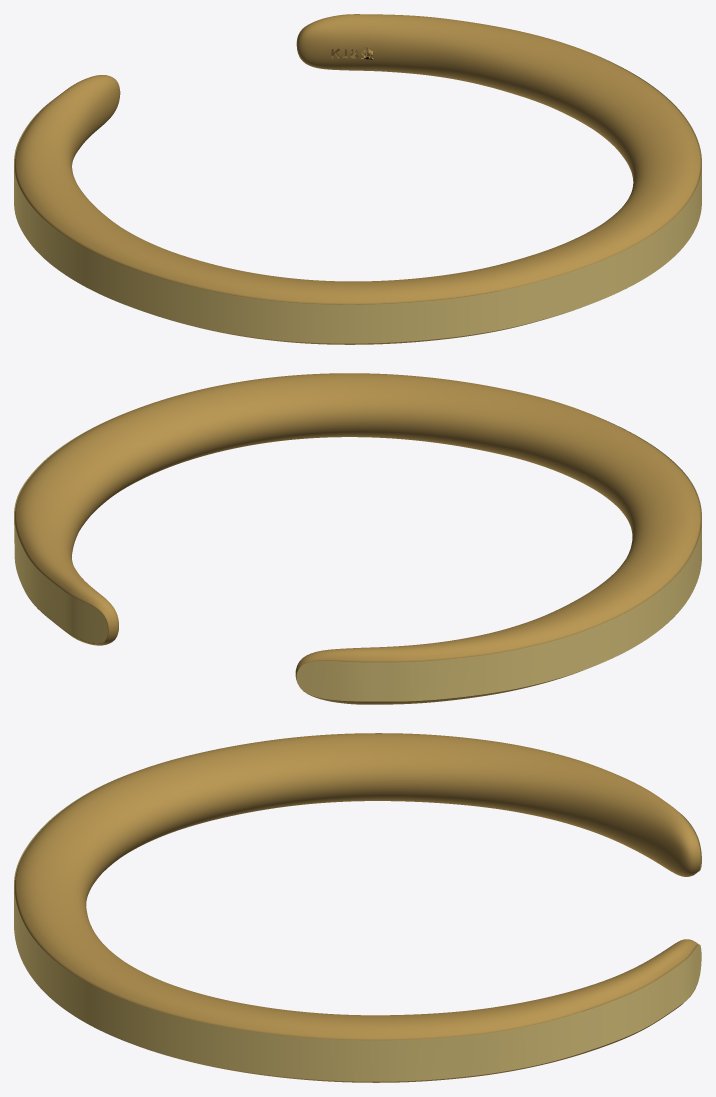
File: ring-gold18.glb
3 views of the same model, one above another, from view 1: azimuth 30°, elevation 25°; view 2: azimuth 150°, elevation 25°; view 3: azimuth 270°, elevation 25° (orthographic). The views are drawn at different scales.
Parts seen in each view (by area): view 1: ring-body.002, ring-body.003; view 2: ring-body.002, ring-body.003; view 3: ring-body.002, ring-body.003.
Part boxes in pixels (x1,y1,x2,y2): ring-body.002: (14,14,701,344); ring-body.003: (14,25,701,343); ring-body.002: (15,373,701,704); ring-body.003: (14,412,701,701); ring-body.002: (14,733,700,1082); ring-body.003: (14,776,701,1081).
Bounding box in the file's own units: 0.5126 × 0.0444 × 0.4867.
2 materials, 2 textured.
